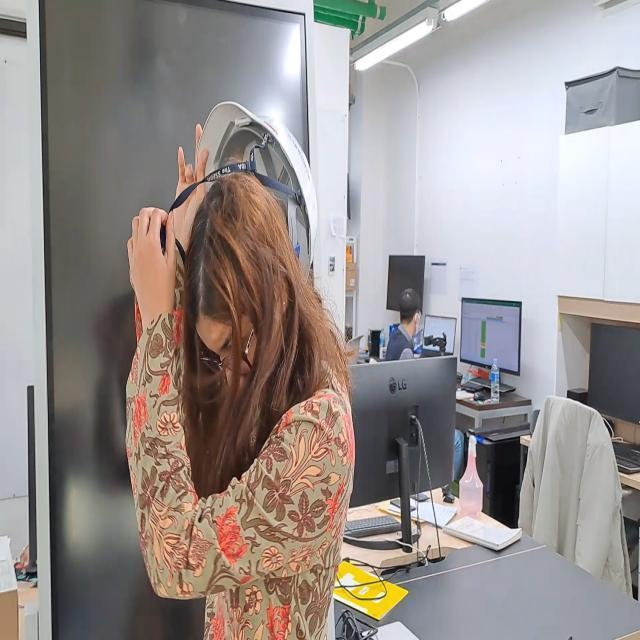vest: (122, 84, 354, 640), (378, 286, 438, 358)
